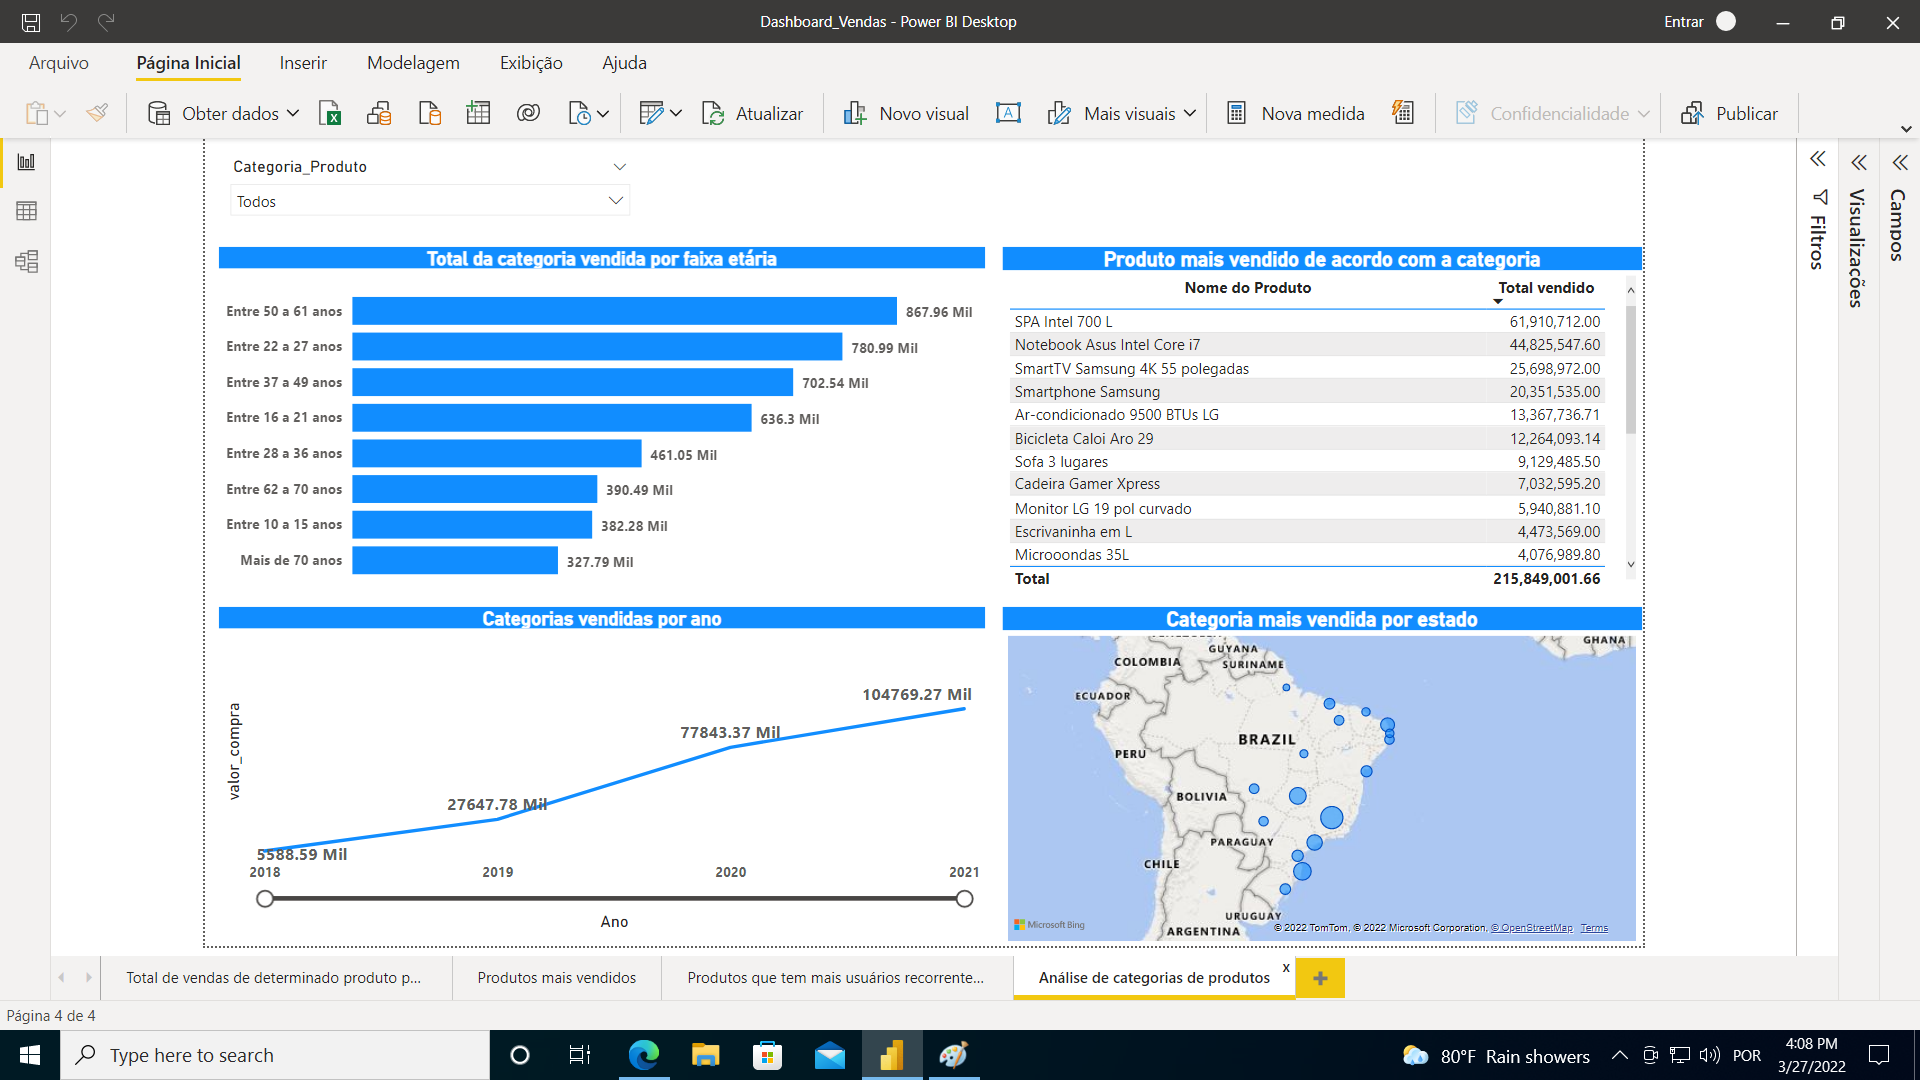

Layout of this report page (visuals, bound fields, positions):
{"tool":"powerbi","page":{"name":"Análise de categorias de produtos","canvas":[1280,720],"ordinal":3},"visuals":[{"type":"map","title":"Categoria mais vendida por estado","fields":{"Category":["usuarios_dataset.estado","usuarios_dataset.cidade"],"Size":["Sum(vendas_dataset.valor_compra)"]},"box":[710.4,417.3,569.2,302.7],"z":0},{"type":"lineChart","title":"Categorias vendidas por ano","fields":{"Category":["vendas_dataset.data_venda.Variation.Hierarquia de datas.Ano","vendas_dataset.data_venda.Variation.Hierarquia de datas.Mês"],"Y":["Sum(vendas_dataset.valor_compra)"]},"box":[12.1,417.3,682.6,291.9],"z":1000},{"type":"slicer","fields":{"Values":["produtos_dataset.categoria_produto"]},"box":[12.1,12.1,376.3,84.4],"z":2000},{"type":"barChart","title":"Total da categoria vendida por faixa etária","fields":{"Category":["usuarios_dataset.faixa_etaria"],"Y":["Sum(vendas_dataset.valor_compra)"]},"box":[12.1,96.5,682.6,309.9],"z":4000},{"type":"tableEx","title":"Produto mais vendido de acordo com a categoria ","fields":{"Values":["produtos_dataset.nome_produto","Sum(vendas_dataset.valor_compra)"]},"box":[710.4,96.5,569.2,309.9],"z":4001}]}

Visuals, with their boxes on the page's 1280x720 design canvas (x1, y1, x2, y2). These are canvas units, not pixel positions in the 1920x1080 screenshot, which may show the page scaled, cropped or inside an application window:
"Categoria mais vendida por estado" map: <box>710,417,1280,720</box>
"Categorias vendidas por ano" lineChart: <box>12,417,695,709</box>
slicer - produtos_dataset.categoria_produto: <box>12,12,388,96</box>
"Total da categoria vendida por faixa etária" barChart: <box>12,96,695,406</box>
"Produto mais vendido de acordo com a categoria " tableEx: <box>710,96,1280,406</box>
